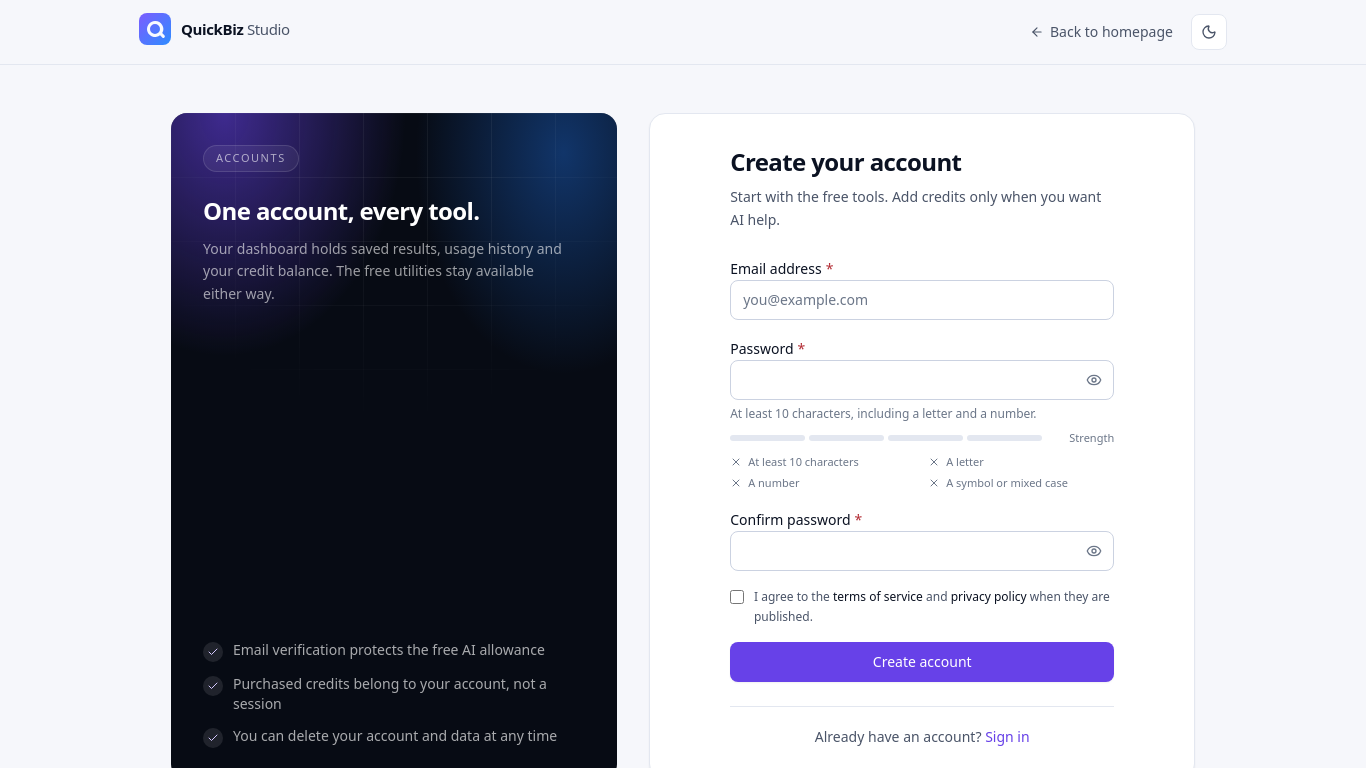
it: RegisterPage › sends a verification result without revealing whether the address existed
The width and height of the screenshot is (1366, 768).
In the field labelled "Email address*": (922, 300) [730,280,1114,320], type "  Ada@Example.com "
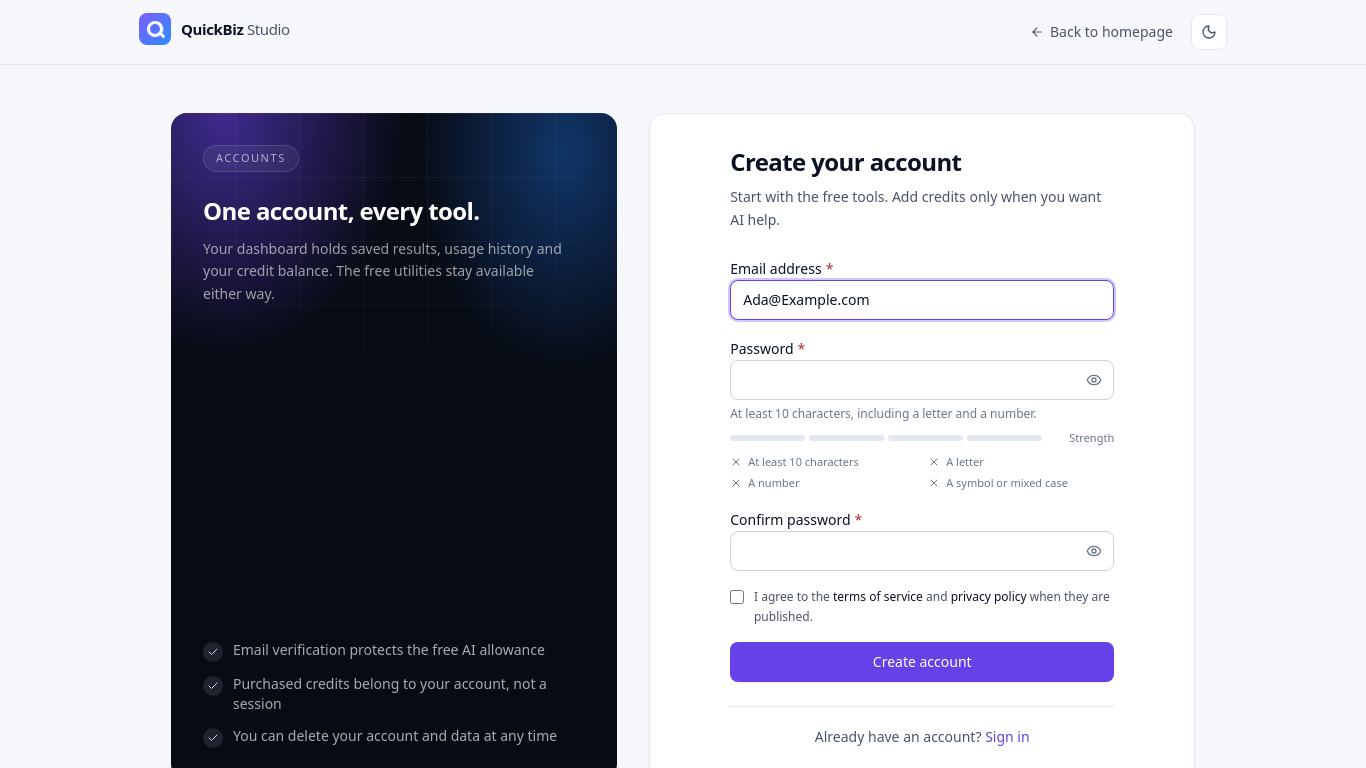
In the password field labelled "Password*": (922, 380) [730,360,1114,400], type "correct-horse-1"
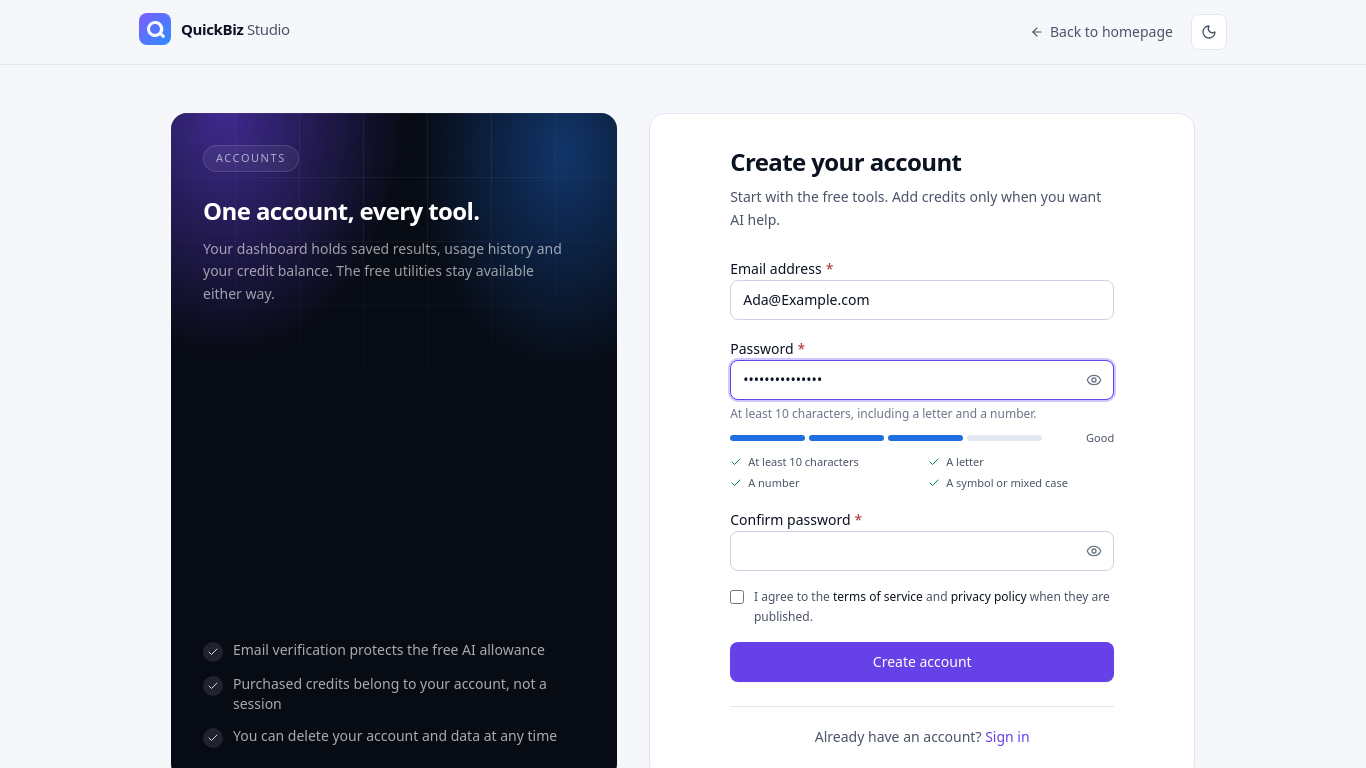
In the password field labelled "Confirm password*": (922, 551) [730,531,1114,571], type "correct-horse-1"
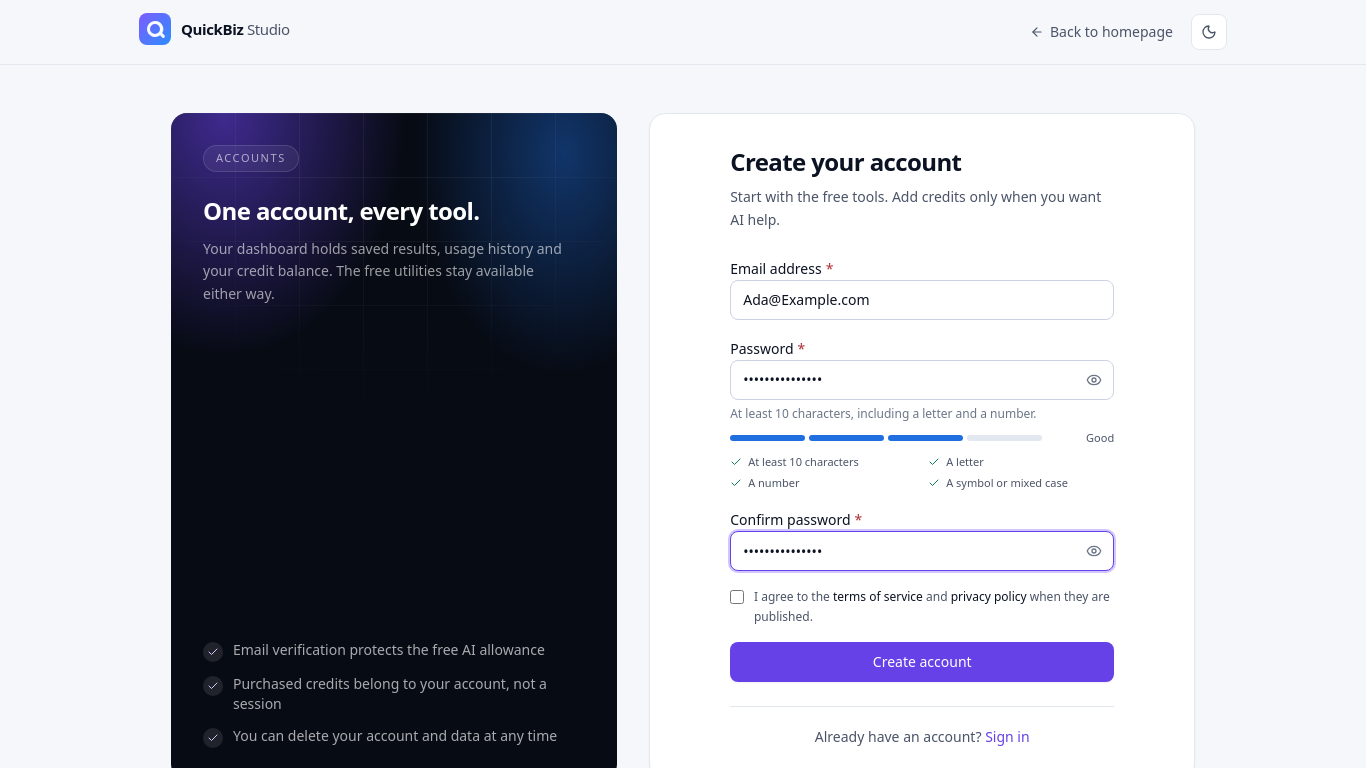
Click the checkbox: (737, 597) [730,589,744,605]
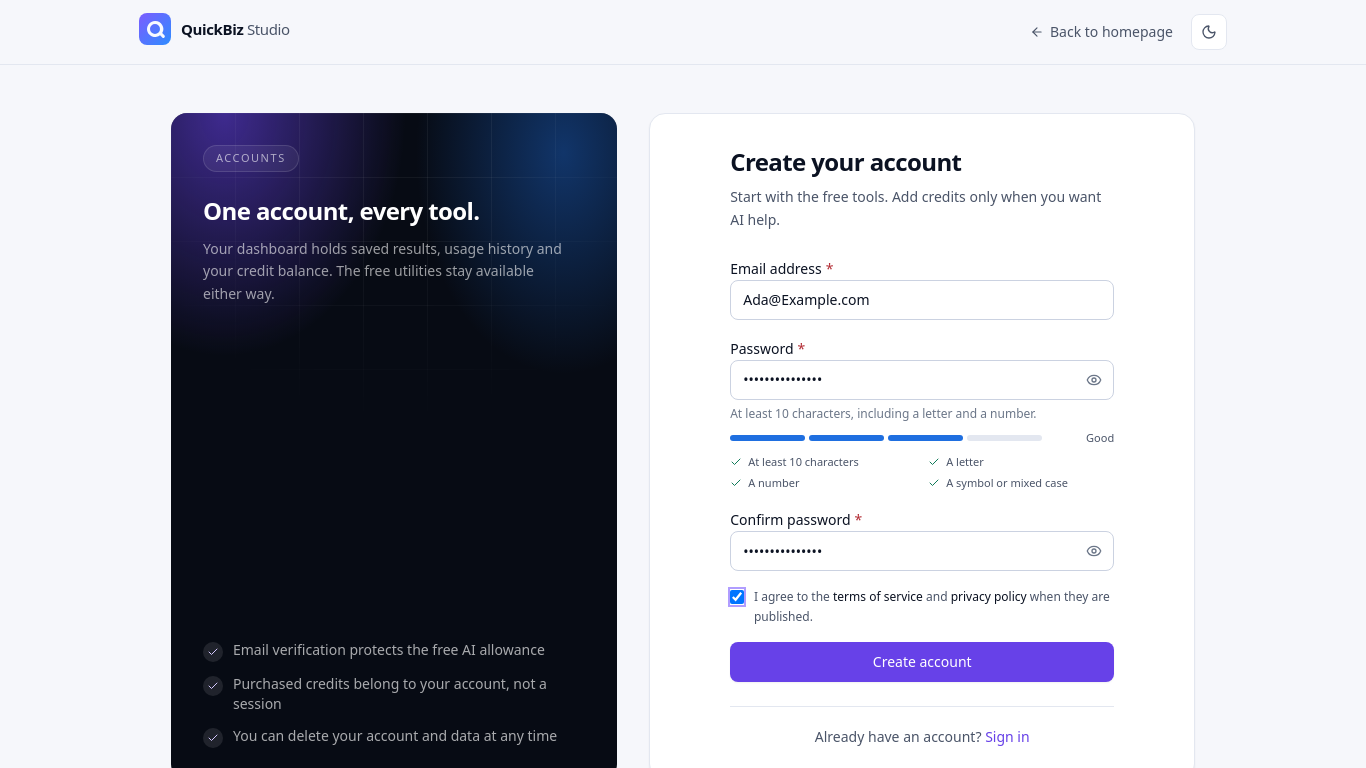
Click the button "Create account": (922, 662) [730,642,1114,682]
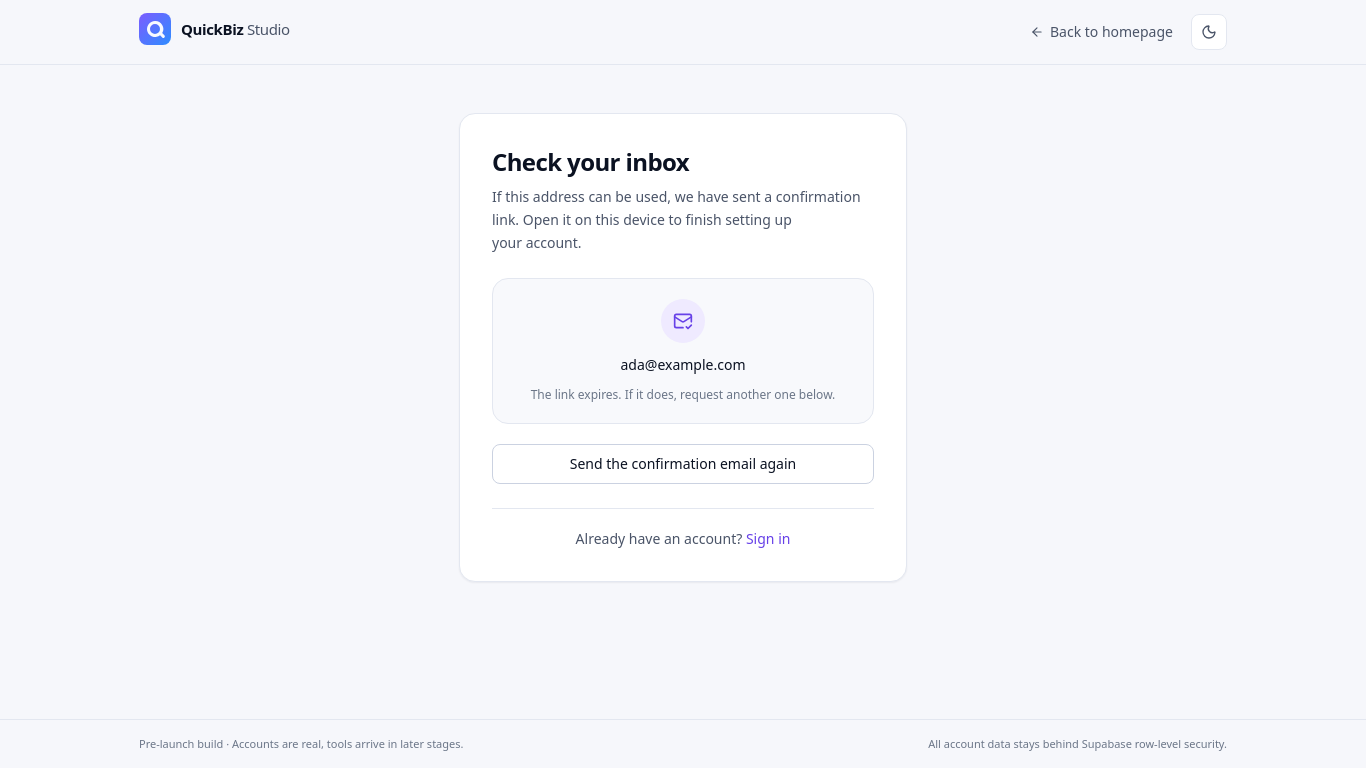
Check: the heading "Check your inbox" is shown, box [492,145,689,178]
Check: the text "ada@example.com" is shown, box [620,355,746,374]
